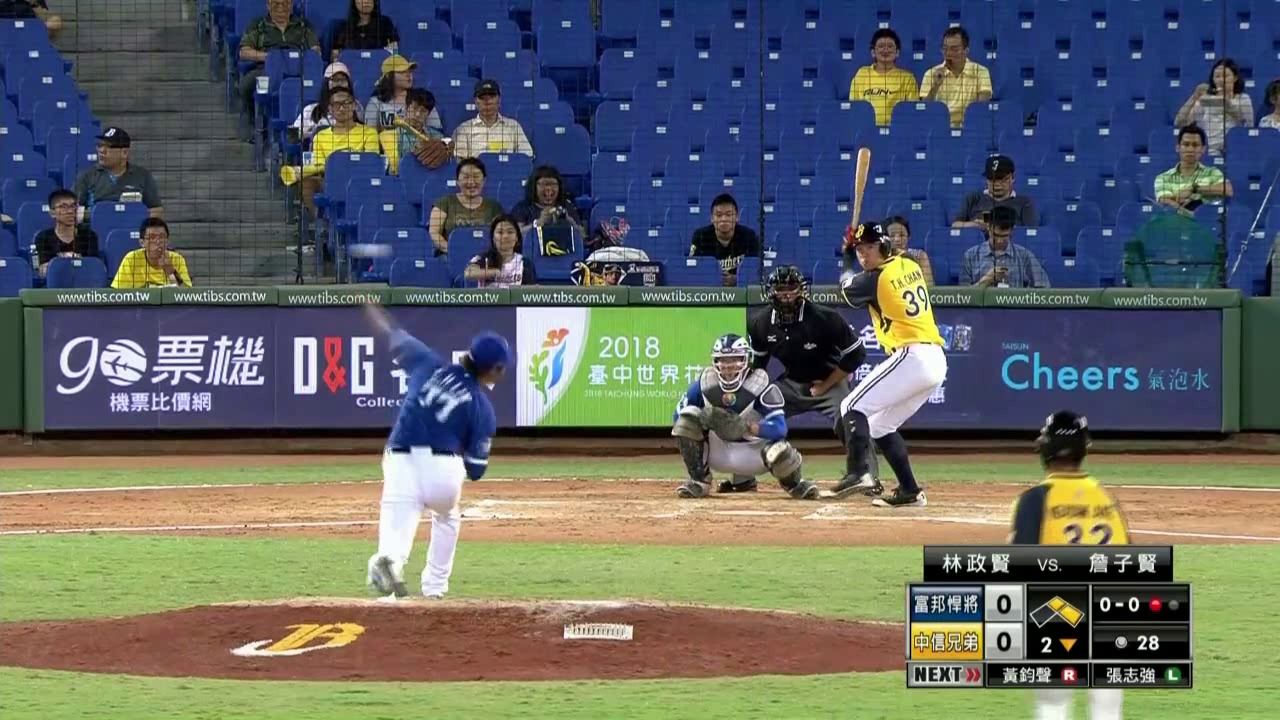ball: (361, 242, 379, 259)
base: (1029, 589, 1084, 627)
bat: (848, 145, 872, 245)
out: (1145, 591, 1185, 619)
score1: (987, 587, 1021, 618)
score2: (986, 622, 1019, 656)
session: (1026, 629, 1086, 657)
strikeball: (1093, 591, 1141, 619)
total: (1095, 628, 1186, 655)
